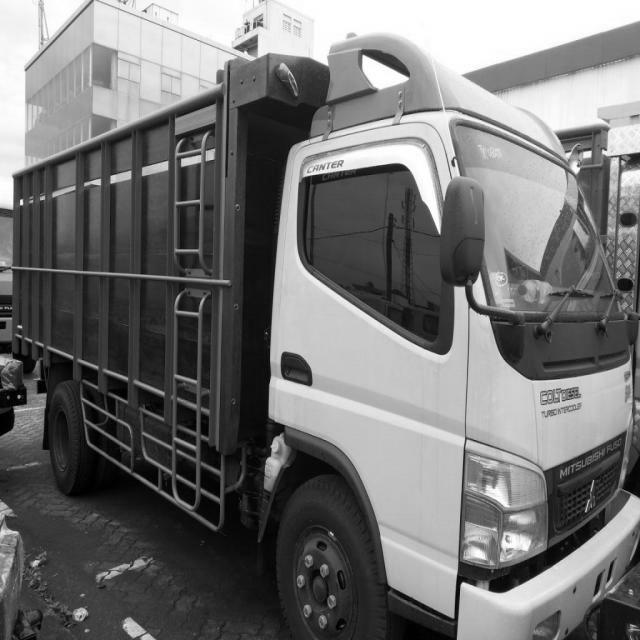truck: (234, 20, 640, 640)
